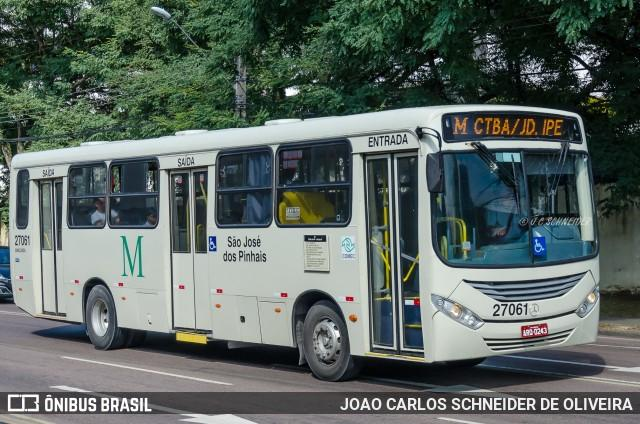CTBA JD IPE: (472, 115, 568, 142)
